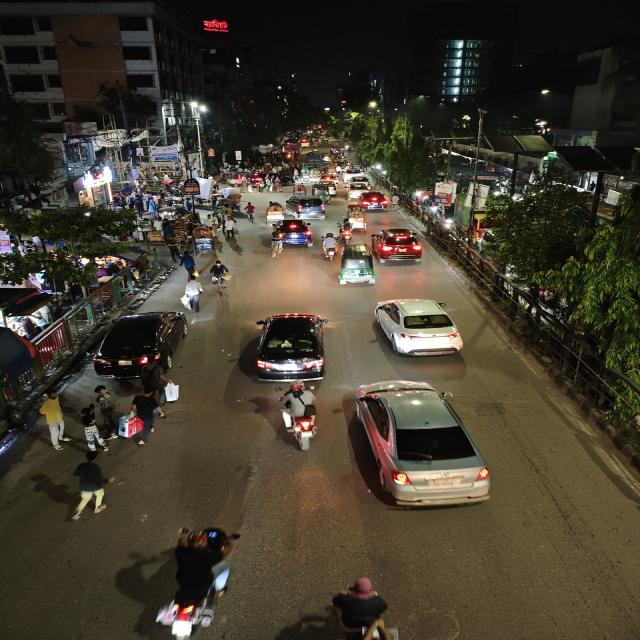bicycle: (208, 260, 234, 296), (242, 200, 257, 223)
car: (343, 377, 502, 515), (90, 308, 192, 382), (248, 309, 335, 389), (370, 295, 471, 360), (370, 227, 425, 266), (272, 218, 316, 248), (285, 196, 327, 220), (357, 190, 392, 211), (346, 180, 372, 192), (346, 169, 367, 181)
cng: (339, 247, 375, 290), (312, 182, 331, 198)
motorcycle: (151, 519, 250, 639), (275, 386, 323, 452), (321, 233, 338, 261), (336, 217, 354, 241)
pedestrian: (66, 452, 115, 520), (126, 390, 164, 448), (36, 391, 68, 452), (77, 402, 112, 456), (181, 276, 204, 312), (162, 225, 183, 261), (113, 409, 134, 441), (321, 232, 338, 262), (179, 249, 197, 277), (222, 218, 237, 238)
rickshaw: (190, 226, 216, 254), (346, 205, 366, 229), (264, 200, 284, 222), (292, 182, 308, 196)
